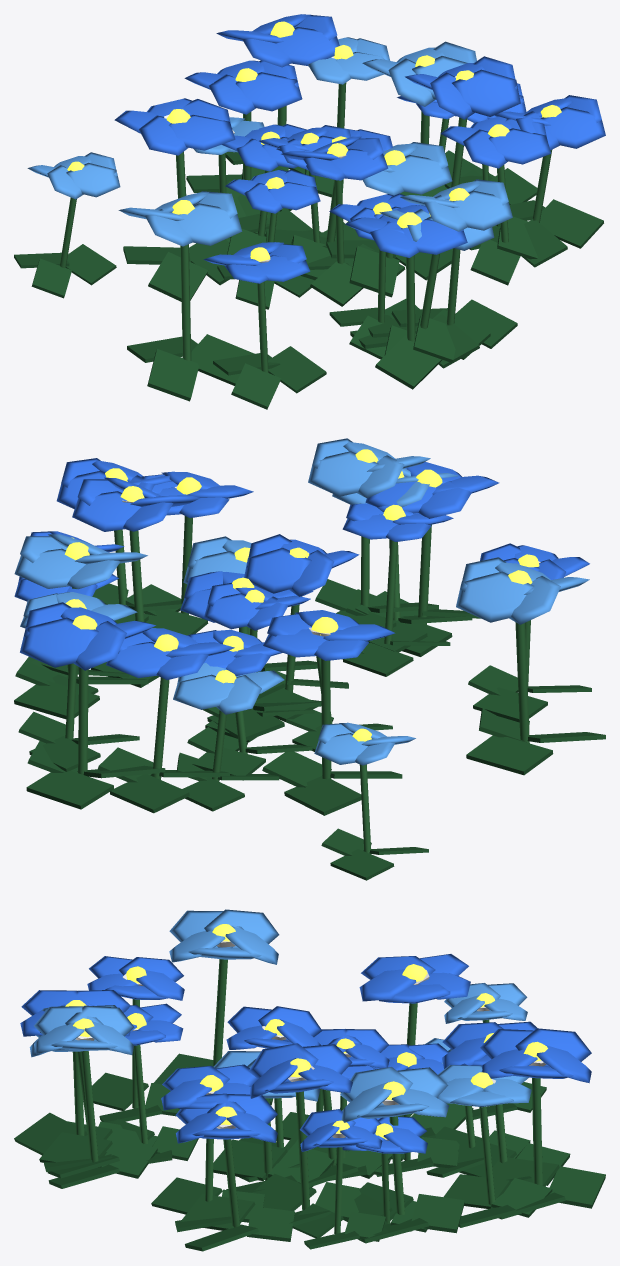
Rendered from flower-cluster-a.glb.
3 views of the same model, one above another, from view 1: azimuth 30°, elevation 25°; view 2: azimuth 150°, elevation 25°; view 3: azimuth 270°, elevation 25° (orthographic). The views are drawn at different scales.
Parts seen in each view (by area): view 1: FlowerCluster_BlueCyan_darkLeaf, FlowerCluster_BlueCyan_flowerBlue1, FlowerCluster_BlueCyan_flowerCyan, FlowerCluster_BlueCyan_stemGreen, FlowerCluster_BlueCyan_flowerCenterGold; view 2: FlowerCluster_BlueCyan_darkLeaf, FlowerCluster_BlueCyan_flowerBlue1, FlowerCluster_BlueCyan_flowerCyan, FlowerCluster_BlueCyan_stemGreen, FlowerCluster_BlueCyan_flowerCenterGold; view 3: FlowerCluster_BlueCyan_darkLeaf, FlowerCluster_BlueCyan_flowerBlue1, FlowerCluster_BlueCyan_flowerCyan, FlowerCluster_BlueCyan_stemGreen, FlowerCluster_BlueCyan_flowerCenterGold, FlowerCluster_BlueCyan_flowerCenterWhite.
Part boxes in pixels (box(x1,y1,x2,y2)): FlowerCluster_BlueCyan_darkLeaf: box(14, 150, 603, 409); FlowerCluster_BlueCyan_flowerBlue1: box(114, 14, 605, 283); FlowerCluster_BlueCyan_flowerCyan: box(27, 37, 512, 250); FlowerCluster_BlueCyan_stemGreen: box(59, 82, 551, 372); FlowerCluster_BlueCyan_flowerCenterGold: box(67, 21, 561, 261); FlowerCluster_BlueCyan_darkLeaf: box(14, 579, 605, 880); FlowerCluster_BlueCyan_flowerBlue1: box(14, 458, 589, 680); FlowerCluster_BlueCyan_flowerCyan: box(14, 438, 589, 765); FlowerCluster_BlueCyan_stemGreen: box(65, 516, 530, 853); FlowerCluster_BlueCyan_flowerCenterGold: box(64, 449, 539, 741); FlowerCluster_BlueCyan_darkLeaf: box(14, 1053, 605, 1251); FlowerCluster_BlueCyan_flowerBlue1: box(20, 954, 591, 1153); FlowerCluster_BlueCyan_flowerCyan: box(29, 909, 531, 1122); FlowerCluster_BlueCyan_stemGreen: box(72, 959, 542, 1233); FlowerCluster_BlueCyan_flowerCenterGold: box(65, 924, 547, 1138); FlowerCluster_BlueCyan_flowerCenterWhite: box(75, 941, 546, 1140).
Size of the model in its own units: 1.38 by 0.5584 by 1.45.
